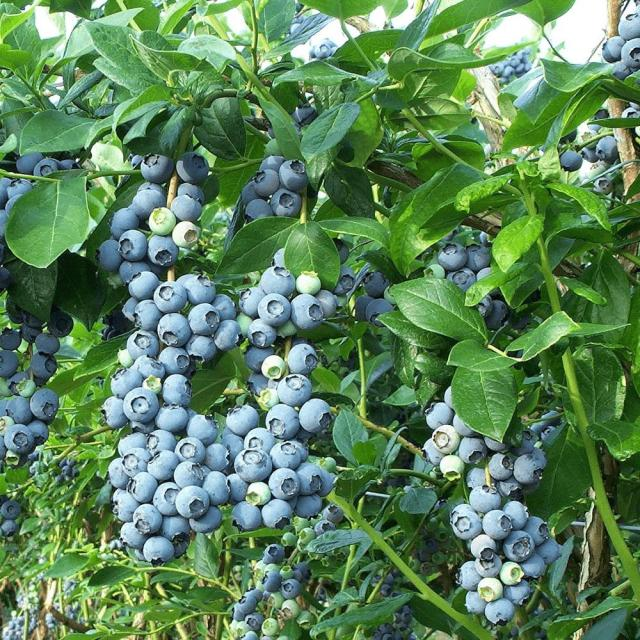BlueBerry - v1: (173, 146, 214, 189), (293, 395, 337, 431), (288, 292, 326, 333), (274, 372, 316, 409), (255, 264, 298, 300), (124, 466, 163, 504), (233, 447, 273, 484), (174, 482, 211, 521), (278, 156, 314, 195), (285, 342, 321, 381), (264, 403, 300, 442), (122, 386, 162, 421), (156, 312, 194, 348), (160, 370, 194, 409), (188, 503, 228, 536), (140, 150, 176, 186), (258, 291, 294, 327), (145, 232, 182, 267), (240, 342, 278, 376), (256, 497, 294, 531), (155, 344, 194, 377), (107, 366, 146, 399), (152, 480, 184, 520), (153, 279, 189, 314), (126, 328, 162, 363), (144, 448, 182, 481), (153, 401, 192, 433), (467, 484, 506, 516), (188, 302, 222, 338), (44, 308, 80, 342), (100, 395, 134, 431), (224, 404, 262, 436), (267, 441, 306, 472), (130, 188, 170, 218), (201, 470, 231, 510), (128, 269, 162, 304), (185, 412, 219, 447), (269, 187, 306, 219), (294, 459, 324, 498), (108, 208, 142, 242), (117, 228, 151, 262), (362, 296, 396, 330), (245, 316, 279, 350), (268, 466, 302, 500), (230, 501, 264, 535), (503, 529, 537, 563), (119, 446, 154, 479), (482, 507, 515, 542), (454, 558, 487, 593), (288, 101, 324, 133), (168, 194, 205, 225), (130, 353, 168, 383), (112, 488, 142, 526), (212, 318, 245, 352), (417, 434, 450, 468), (183, 274, 218, 306), (242, 424, 278, 455), (94, 238, 127, 271), (244, 195, 278, 227), (132, 297, 164, 331), (479, 298, 511, 332), (456, 432, 488, 466), (512, 453, 546, 485), (451, 510, 485, 542), (141, 533, 175, 565), (482, 595, 516, 627), (437, 241, 472, 272), (184, 333, 220, 363), (422, 399, 458, 429), (172, 437, 208, 467), (156, 513, 192, 543), (118, 520, 154, 550), (147, 205, 179, 238), (29, 386, 61, 419), (4, 395, 37, 427), (500, 497, 532, 530), (171, 218, 203, 250), (360, 267, 392, 299), (430, 422, 462, 454), (236, 286, 269, 317), (3, 424, 37, 454), (119, 257, 154, 286), (128, 502, 164, 530), (145, 428, 178, 458), (292, 491, 325, 521), (116, 432, 154, 458), (172, 461, 206, 490), (32, 156, 69, 182), (292, 268, 324, 298), (210, 290, 240, 322), (502, 576, 534, 606), (253, 168, 286, 197), (445, 266, 479, 294), (331, 264, 359, 298), (466, 466, 500, 494), (615, 36, 640, 74), (465, 241, 494, 273), (225, 472, 251, 507), (244, 479, 274, 509), (521, 515, 550, 545), (204, 441, 232, 472), (438, 452, 469, 480), (450, 411, 482, 438), (107, 455, 134, 487), (557, 148, 585, 178), (600, 35, 628, 65), (470, 534, 500, 562), (535, 537, 565, 565), (472, 554, 507, 578), (518, 552, 548, 580), (498, 559, 526, 589), (311, 466, 338, 497), (595, 132, 621, 164), (617, 10, 640, 46), (260, 352, 287, 382), (353, 294, 381, 322), (32, 352, 60, 380), (476, 576, 504, 604), (488, 452, 515, 481), (13, 150, 47, 173), (313, 288, 339, 318), (495, 474, 525, 500), (220, 432, 245, 463), (177, 181, 207, 206), (0, 346, 22, 380), (26, 418, 50, 449), (6, 177, 38, 199), (590, 172, 617, 198), (239, 178, 265, 205), (471, 292, 497, 319), (515, 426, 538, 456), (256, 384, 283, 409), (260, 542, 288, 566), (321, 502, 346, 528), (464, 587, 488, 614), (136, 181, 171, 199), (0, 325, 24, 351), (258, 151, 285, 174), (35, 331, 62, 354), (419, 262, 449, 282), (314, 516, 340, 539), (484, 432, 512, 453), (0, 500, 24, 524), (236, 593, 260, 617), (380, 281, 402, 307), (14, 377, 41, 398), (261, 570, 284, 594), (279, 598, 303, 621), (294, 606, 317, 630), (127, 418, 161, 434), (141, 372, 164, 395), (279, 578, 303, 600), (121, 296, 141, 322), (5, 194, 27, 217), (509, 51, 532, 73), (474, 266, 502, 284), (0, 207, 15, 240), (7, 369, 26, 395), (294, 560, 313, 586), (580, 144, 602, 166), (252, 558, 273, 581), (0, 174, 14, 208), (449, 502, 474, 520), (278, 530, 300, 550), (19, 323, 42, 342), (59, 156, 87, 171), (244, 611, 265, 631), (260, 616, 281, 636), (1, 518, 20, 540), (538, 421, 556, 444), (116, 349, 136, 369), (278, 562, 298, 582), (290, 514, 312, 532), (300, 526, 318, 548), (446, 385, 460, 412), (621, 105, 640, 124), (493, 61, 511, 80), (243, 586, 264, 602), (0, 414, 15, 436), (313, 42, 333, 58), (542, 405, 561, 421), (435, 526, 452, 543), (419, 560, 435, 578), (232, 630, 260, 640), (429, 549, 446, 565), (375, 583, 393, 598), (235, 620, 249, 638), (380, 622, 394, 636), (371, 627, 385, 640), (399, 611, 412, 624), (388, 588, 402, 599), (397, 624, 410, 634), (61, 464, 71, 476), (71, 467, 81, 478)
